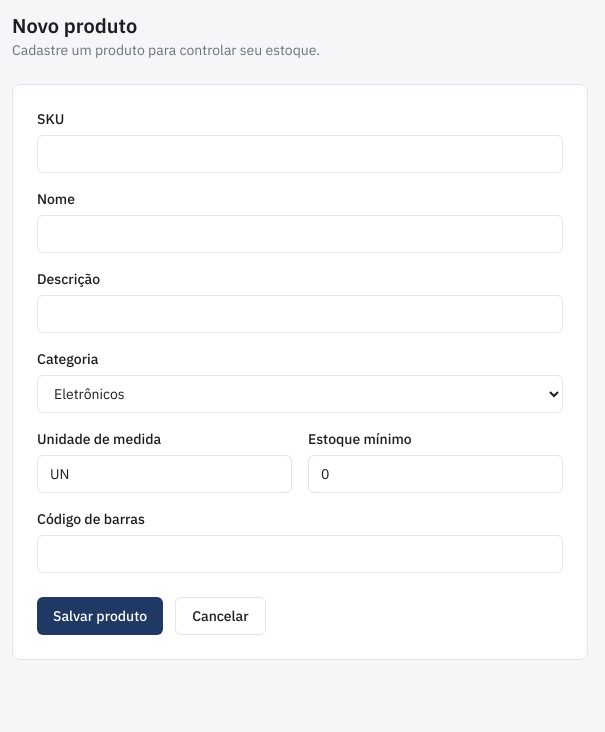
Test: ProdutoFormPage › mostra erro da API sem navegar quando o salvamento falha
The width and height of the screenshot is (605, 732).
Type "SKU-DUPLICADO" into the field labelled "SKU".
click(300, 154); type("SKU-DUPLICADO")  # box [37,135,563,173]
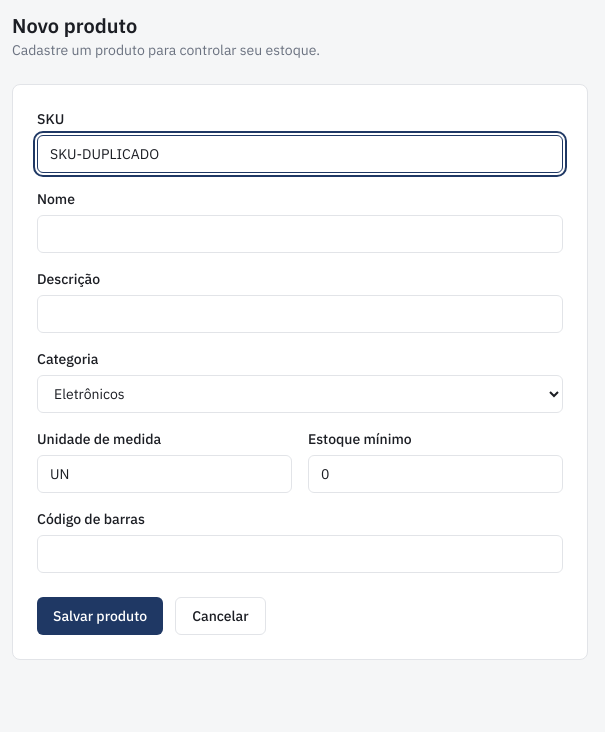
Type "Produto X" into the field labelled "Nome".
click(300, 234); type("Produto X")  # box [37,215,563,253]
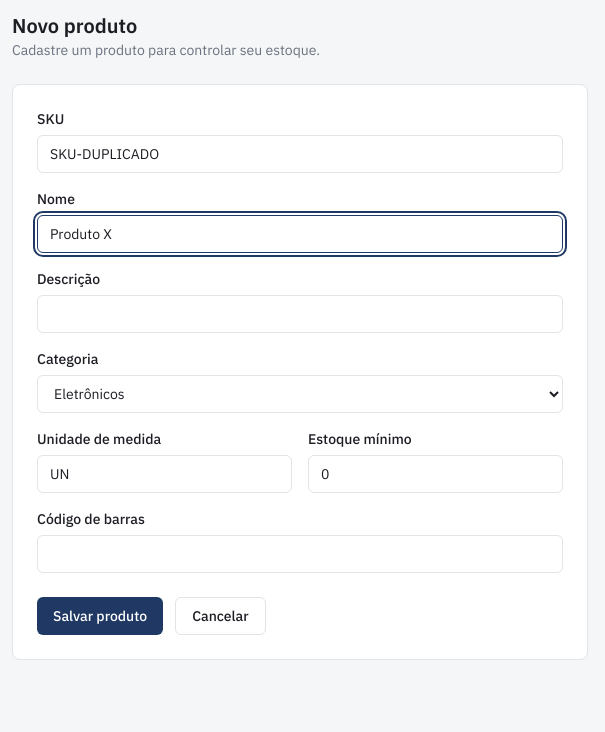
Click the button "Salvar produto".
click(100, 616)  # box [37,597,163,635]
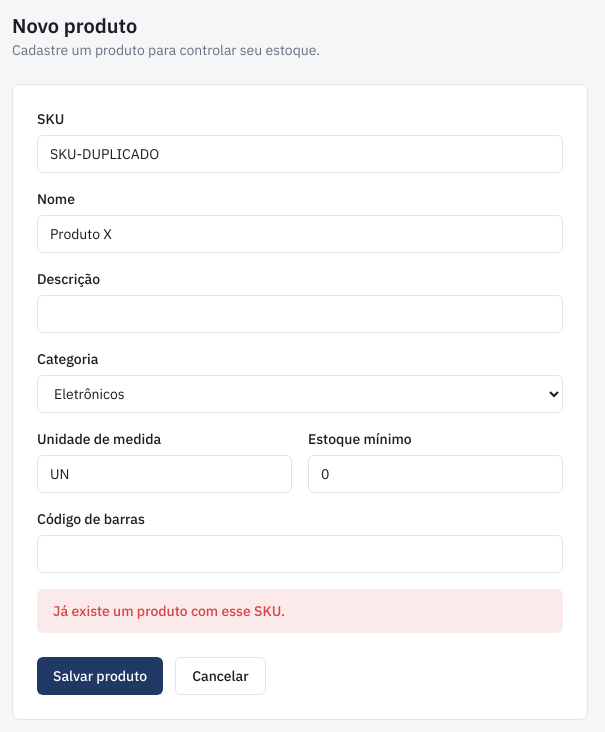
Expected: the message reads "Já existe um produto com esse SKU.", [53,602,285,620]
